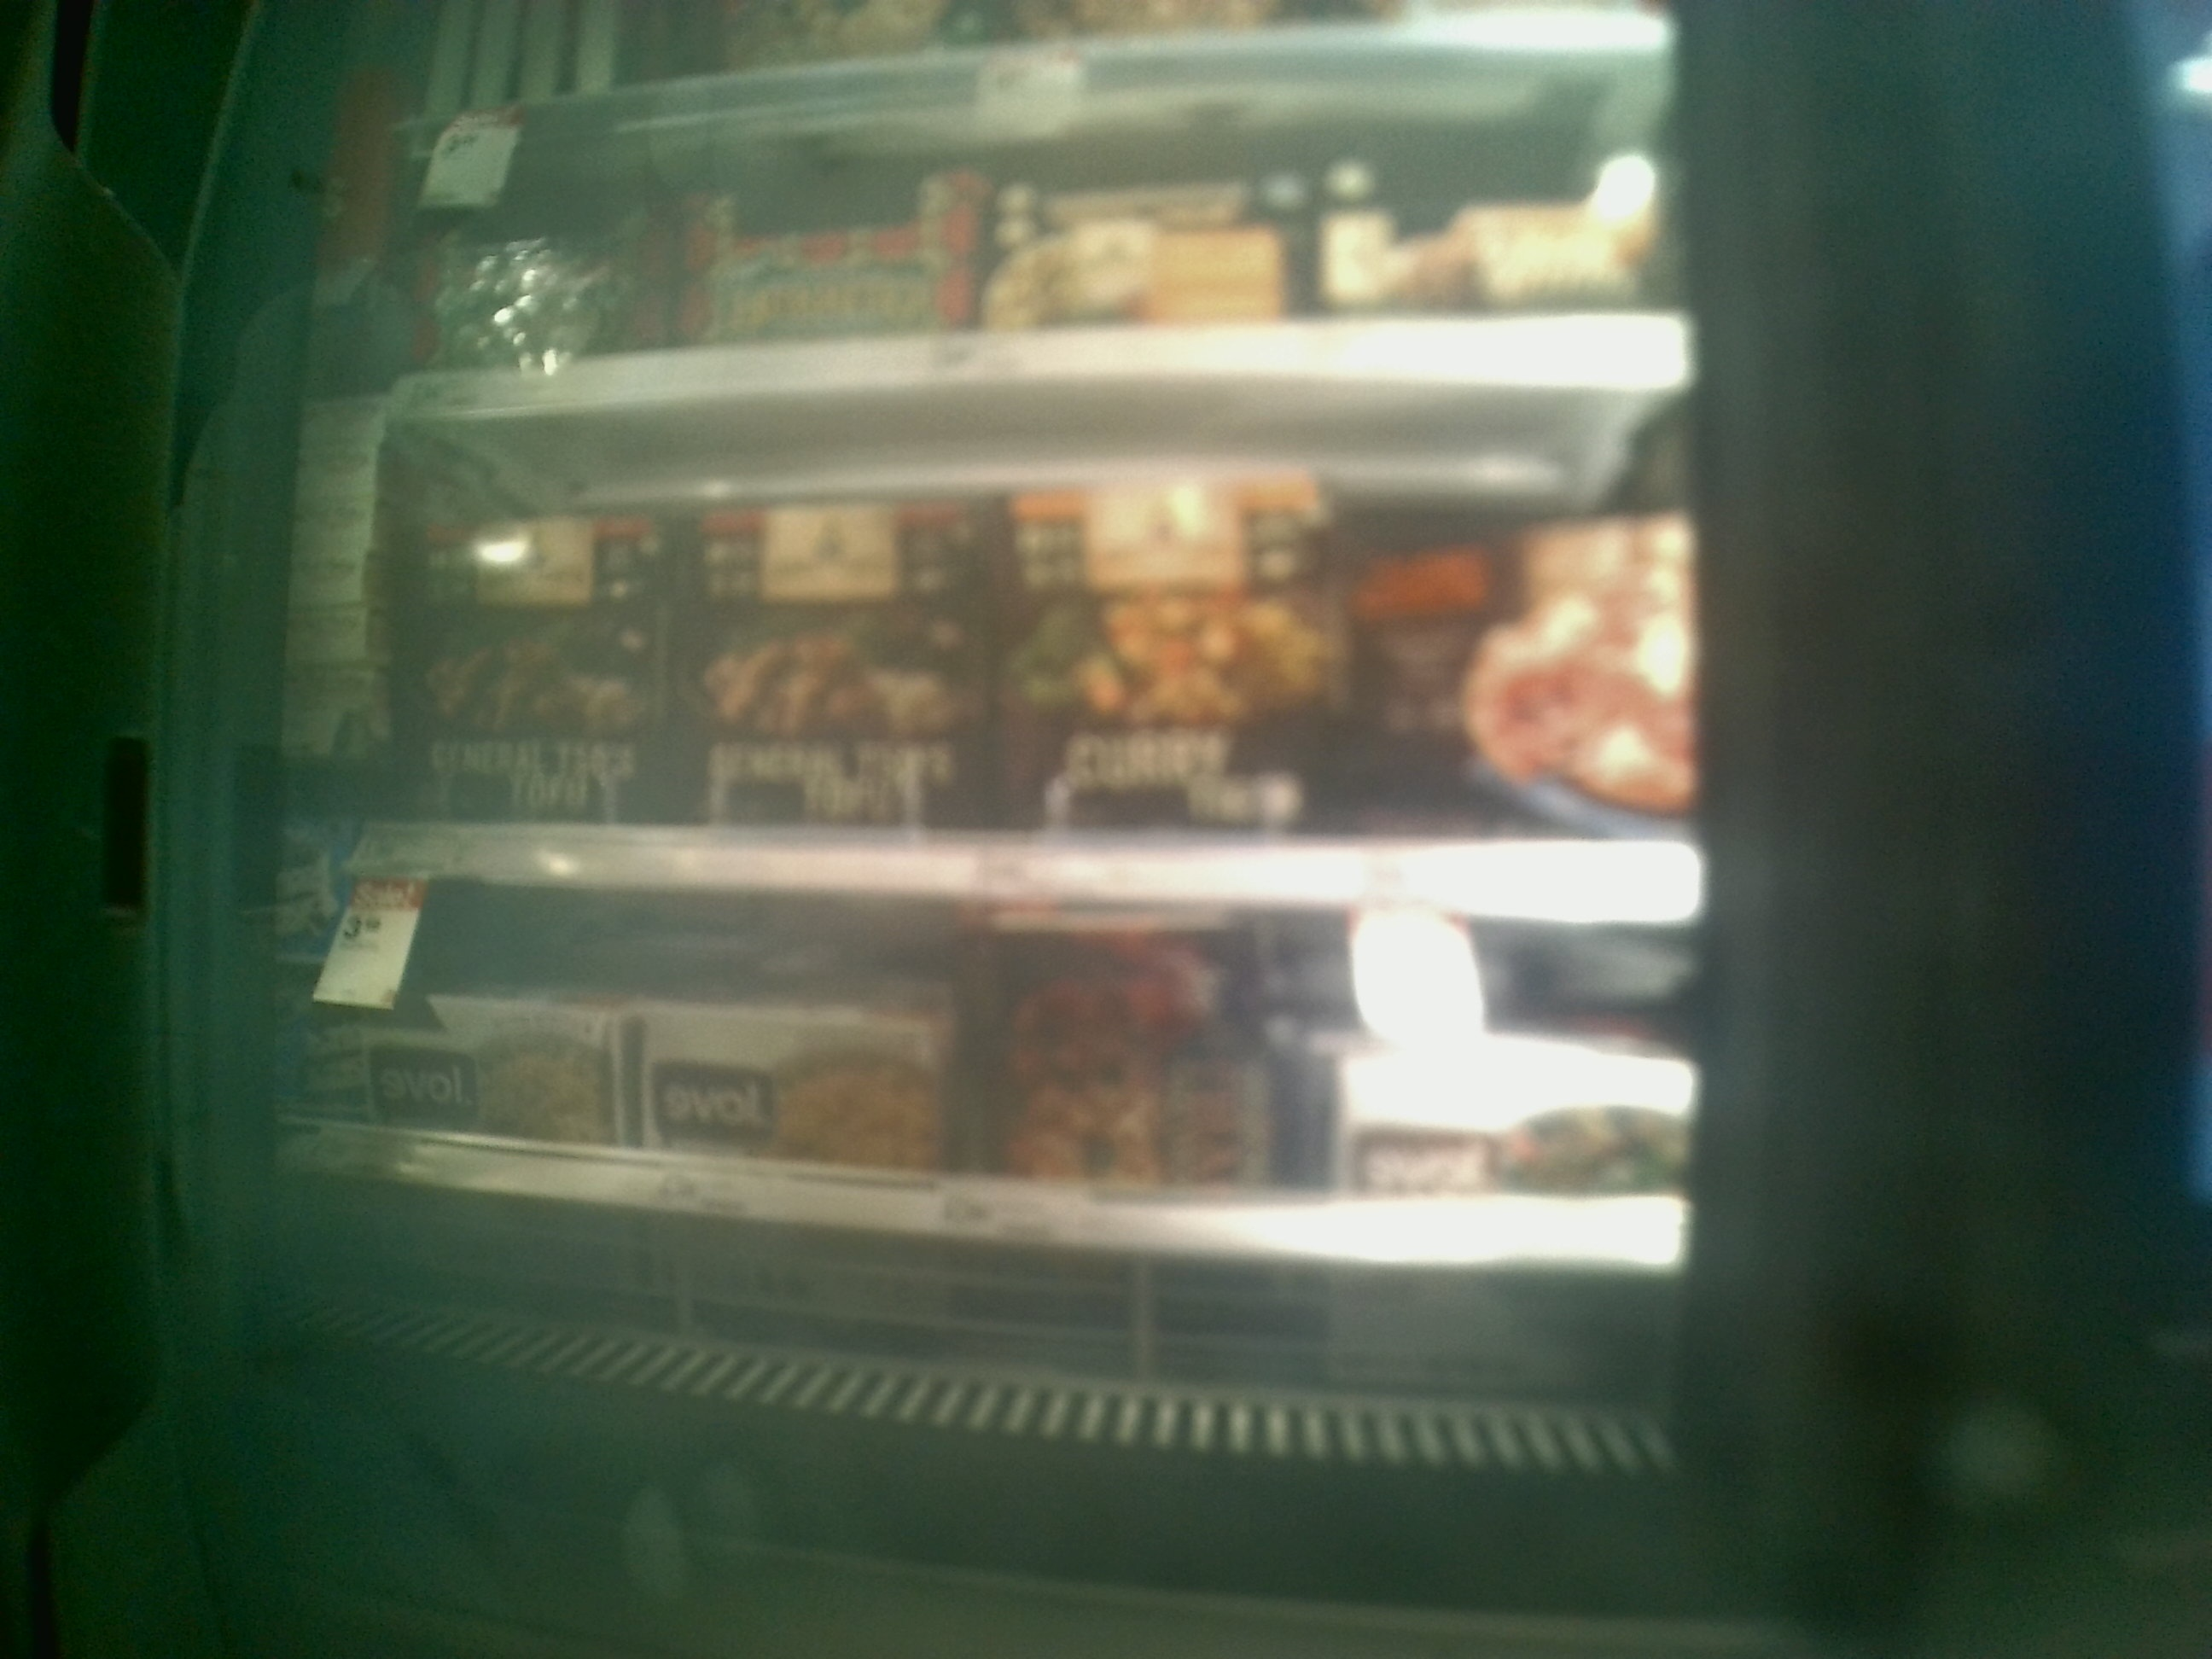frozen-food-shelf: (326, 457, 1719, 922), (301, 924, 1724, 1274)
